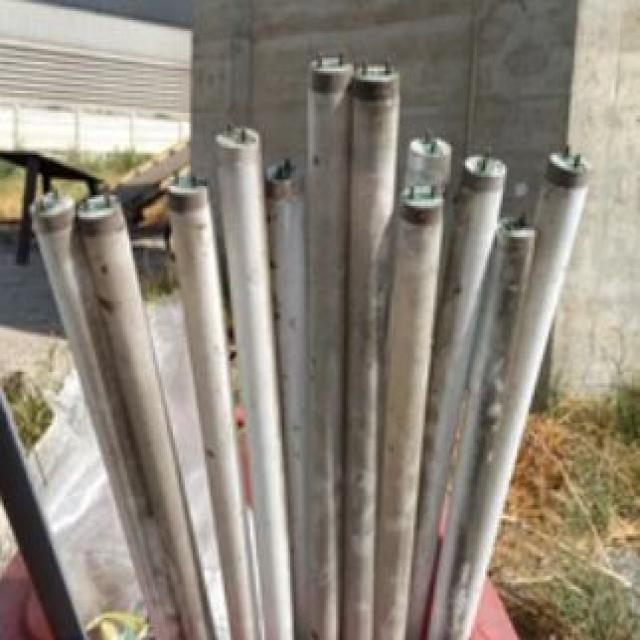electronic: (0, 51, 592, 638), (82, 609, 155, 638)
